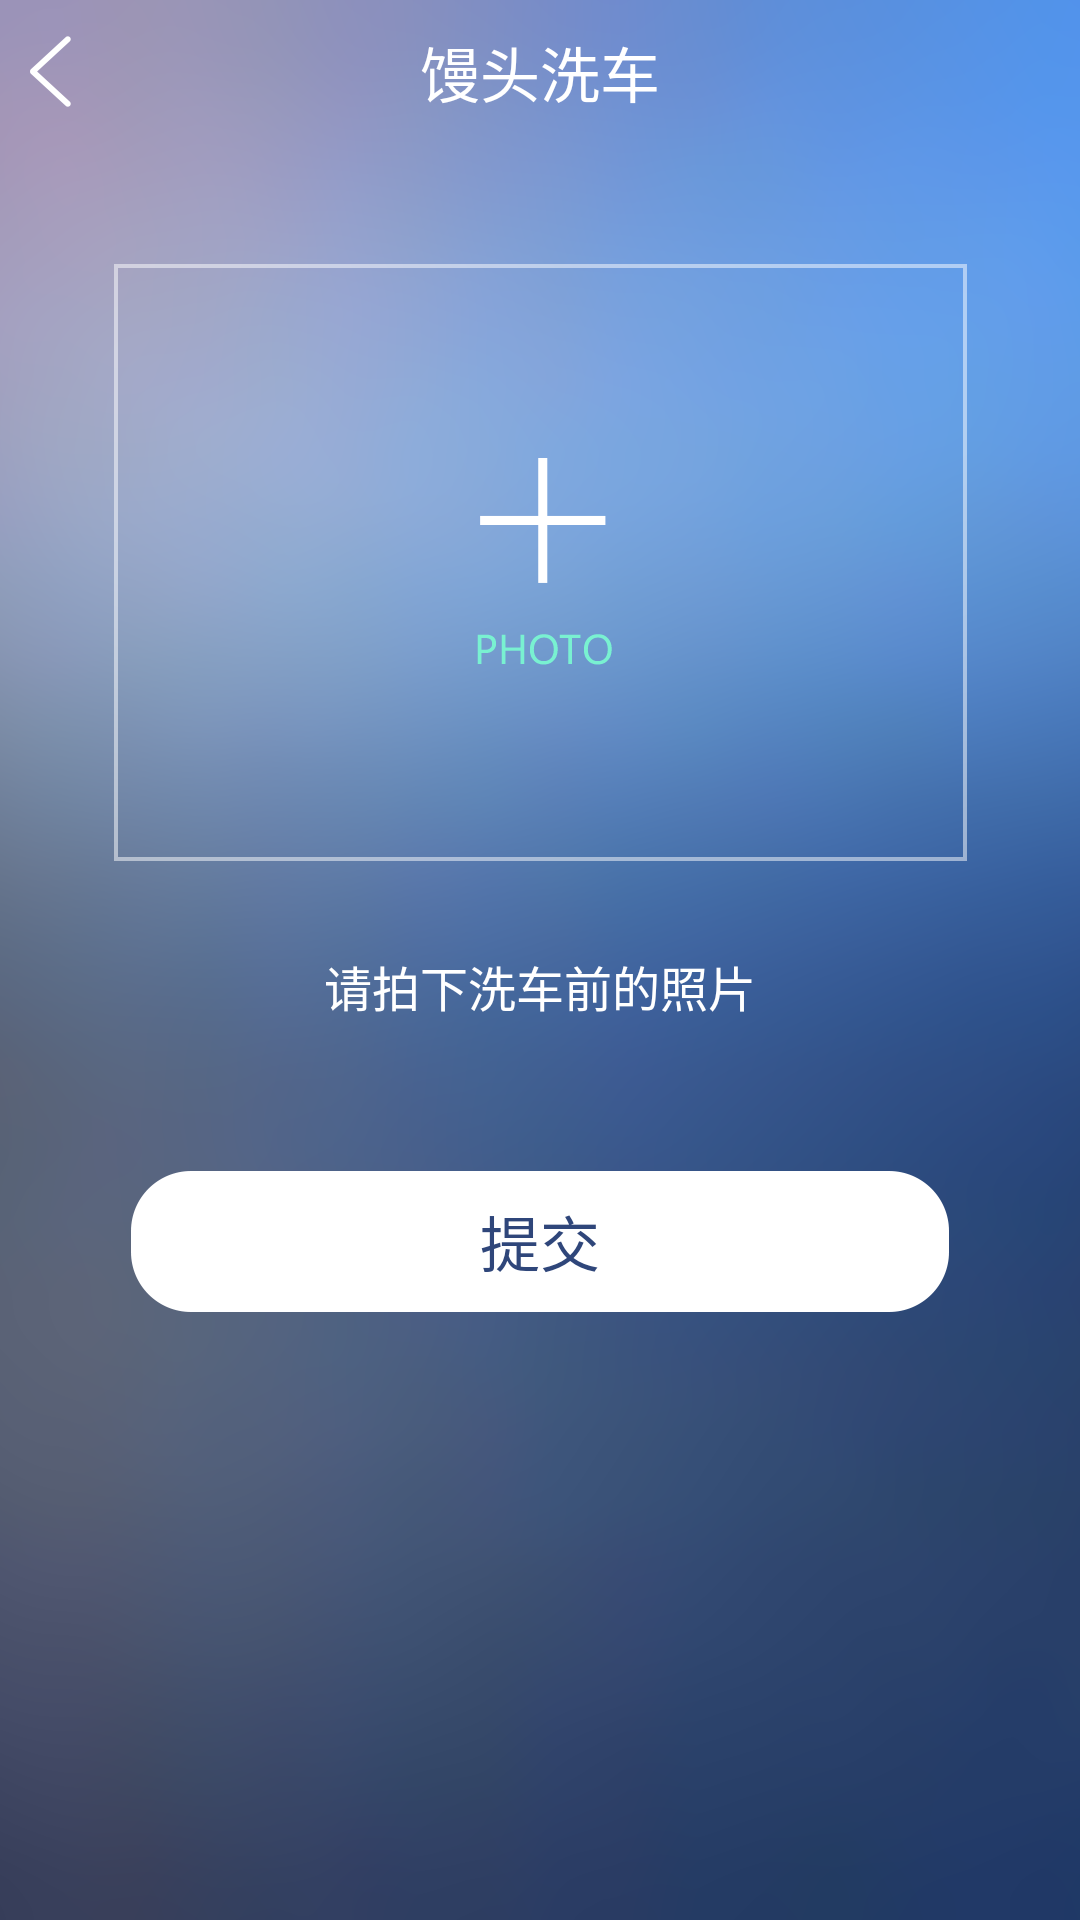

Icons on this 1080px×1920px Android screen, each with the point to tap as point (x, y):
titlebar back: point (50, 71)
